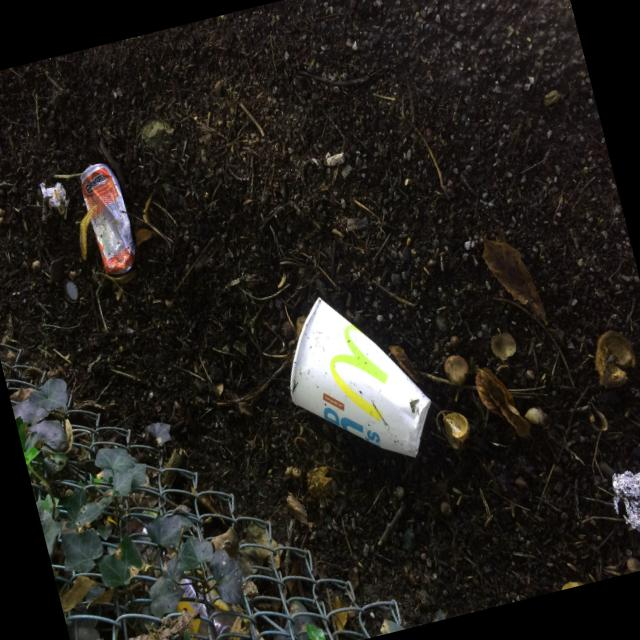less trash: (289, 299, 430, 457), (81, 163, 135, 274), (612, 470, 640, 531)
